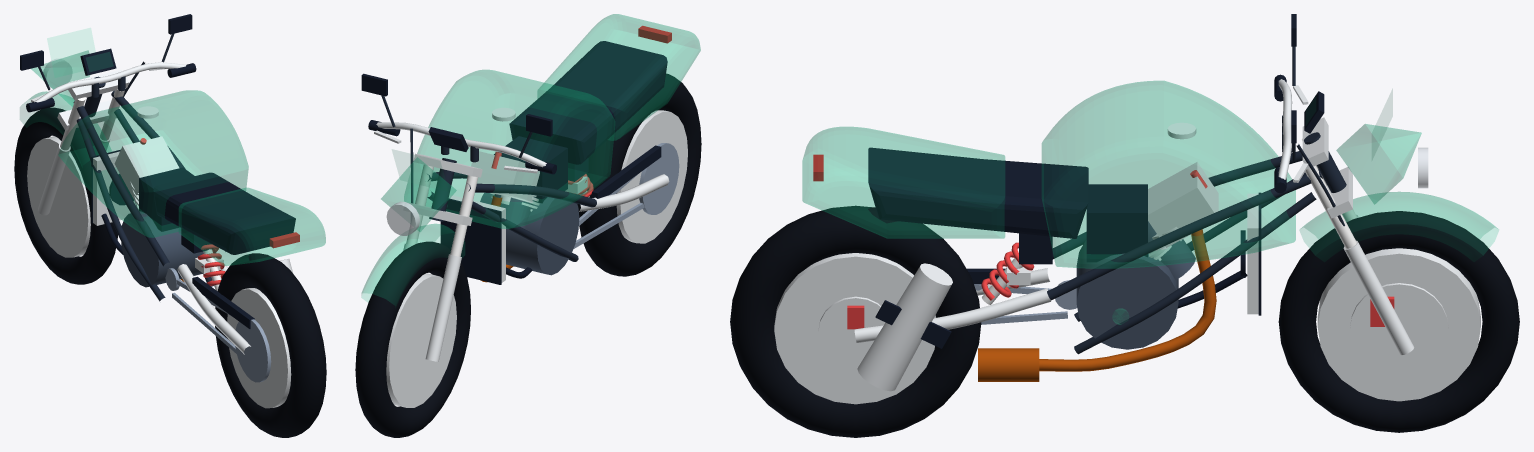
File: moto_xray.glb
The picture shows the model from 3 angles, left to right: view 1: azimuth 30°, elevation 25°; view 2: azimuth 150°, elevation 25°; view 3: azimuth 270°, elevation 25°; orthographic projection. The views are drawn at different scales.
Parts seen in each view (by area): view 1: moto_body_xray, wheels_and_tires, chassis_structure, moto_engine, moto_forks, moto_controls, moto_transmission, moto_cooling, moto_fuel, moto_battery; view 2: moto_body_xray, wheels_and_tires, chassis_structure, moto_engine, moto_forks, moto_cooling, moto_controls, moto_transmission, moto_fuel, moto_battery; view 3: wheels_and_tires, moto_body_xray, chassis_structure, moto_engine, moto_exhaust, moto_brakes, moto_forks, moto_fuel, moto_controls, moto_cooling, moto_transmission, moto_battery.
Boxes of the visible parts, x1,y1,x2,y2 form: moto_body_xray: [20, 28, 325, 265]; wheels_and_tires: [14, 107, 326, 437]; chassis_structure: [73, 76, 295, 354]; moto_engine: [114, 136, 215, 287]; moto_forks: [38, 69, 225, 290]; moto_controls: [20, 14, 196, 112]; moto_transmission: [165, 268, 271, 382]; moto_cooling: [91, 149, 135, 254]; moto_fuel: [137, 106, 194, 231]; moto_battery: [181, 228, 223, 273]; moto_body_xray: [361, 14, 700, 305]; wheels_and_tires: [355, 73, 701, 437]; chassis_structure: [427, 41, 669, 261]; moto_engine: [471, 151, 579, 275]; moto_forks: [403, 153, 593, 361]; moto_cooling: [440, 195, 532, 284]; moto_controls: [361, 73, 556, 174]; moto_transmission: [573, 143, 679, 248]; moto_fuel: [492, 107, 567, 204]; moto_battery: [565, 158, 588, 193]; wheels_and_tires: [730, 205, 1519, 437]; moto_body_xray: [802, 81, 1498, 268]; chassis_structure: [854, 132, 1346, 354]; moto_engine: [1076, 162, 1218, 349]; moto_exhaust: [857, 229, 1216, 391]; moto_brakes: [818, 144, 1448, 373]; moto_forks: [981, 117, 1414, 354]; moto_fuel: [1086, 122, 1196, 262]; moto_controls: [1274, 14, 1324, 193]; moto_cooling: [1177, 192, 1261, 315]; moto_transmission: [967, 268, 1077, 324]; moto_battery: [1007, 233, 1052, 285].
Bounding box in the file's own units: 0.772 × 1.19 × 2.32.
